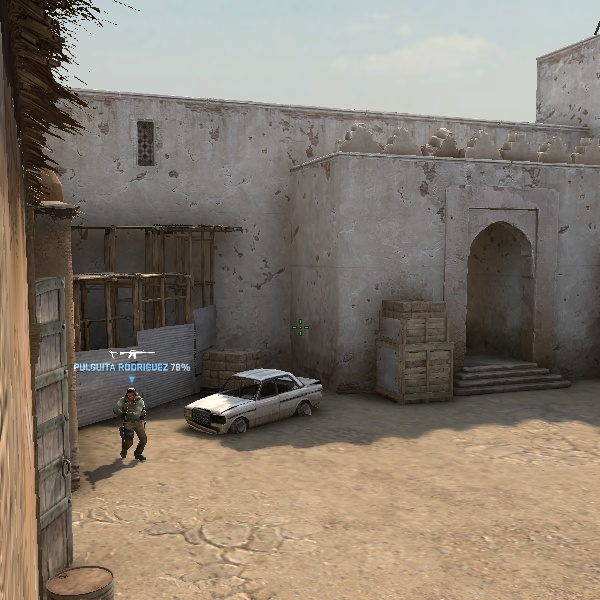ct_body: (111, 385, 154, 464)
ct_head: (123, 386, 142, 405)
